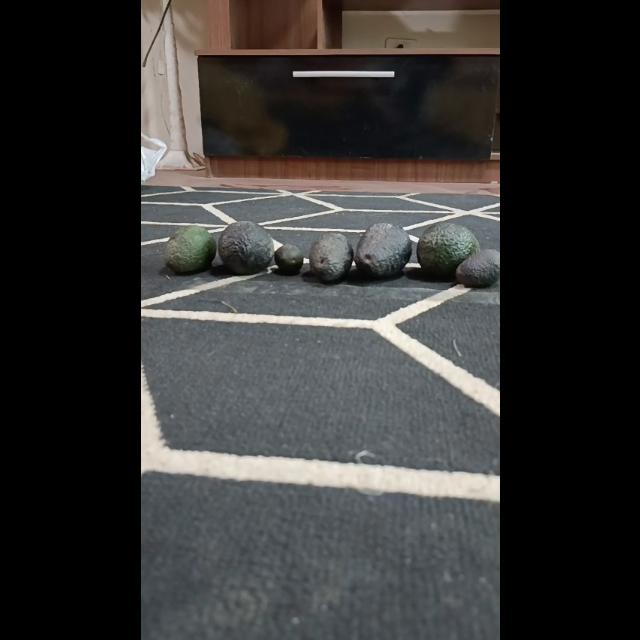Primera: (416, 221, 480, 279), (354, 222, 414, 278), (216, 220, 274, 276)
Segunda: (164, 226, 216, 274), (308, 232, 354, 284)
Tercera: (455, 248, 499, 288), (273, 244, 303, 274)
